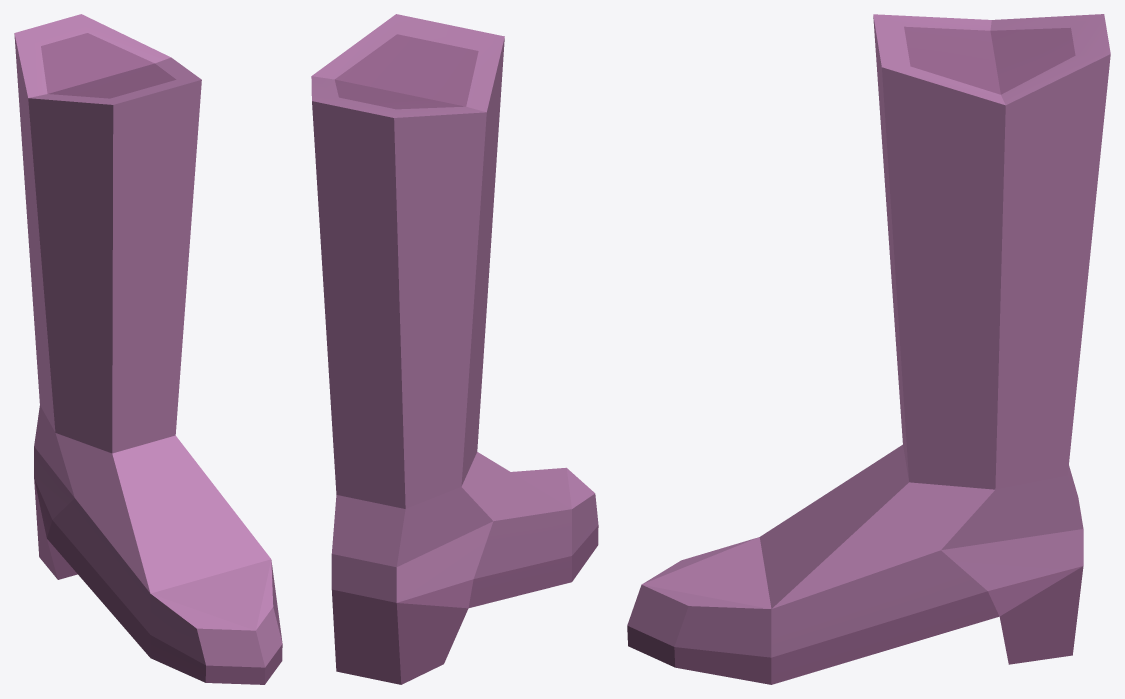
File: SM_Prop_Clothes_Boot_04.obj
The picture shows the model from 3 angles, left to right: view 1: azimuth 30°, elevation 25°; view 2: azimuth 150°, elevation 25°; view 3: azimuth 270°, elevation 25°; orthographic projection. The views are drawn at different scales.
Visible parts, largest first — view 1: SM_Prop_Clothes_Boot_04_0; view 2: SM_Prop_Clothes_Boot_04_0; view 3: SM_Prop_Clothes_Boot_04_0.
Boxes of the visible parts, left/top/right/bottom form: SM_Prop_Clothes_Boot_04_0: left=14, top=14, right=282, bottom=684; SM_Prop_Clothes_Boot_04_0: left=311, top=14, right=598, bottom=684; SM_Prop_Clothes_Boot_04_0: left=627, top=14, right=1110, bottom=684.
Size of the model in its own units: 0.1365 by 0.4499 by 0.3259.
Materials: 1 (1 with a texture image).
